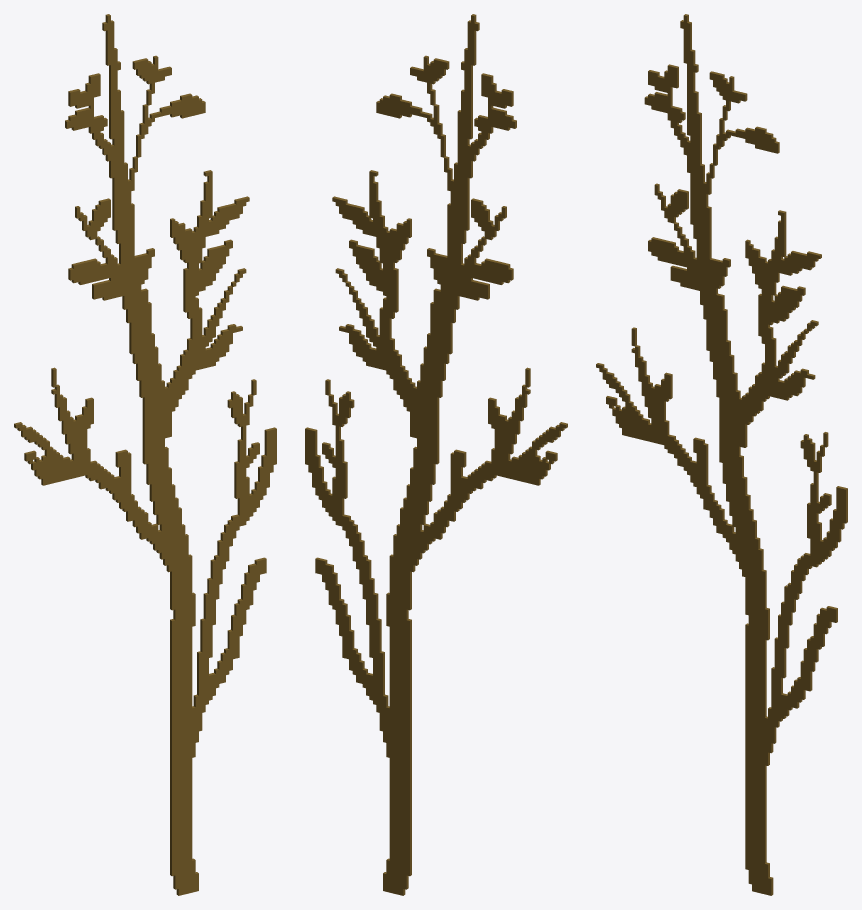
Rendered from forest1.1-56.obj.
The picture shows the model from 3 angles, left to right: view 1: azimuth 30°, elevation 25°; view 2: azimuth 150°, elevation 25°; view 3: azimuth 330°, elevation 25°; orthographic projection. The views are drawn at different scales.
Size of the model in its own units: 7.7 by 25.3 by 0.1.
1 material, 1 textured.
